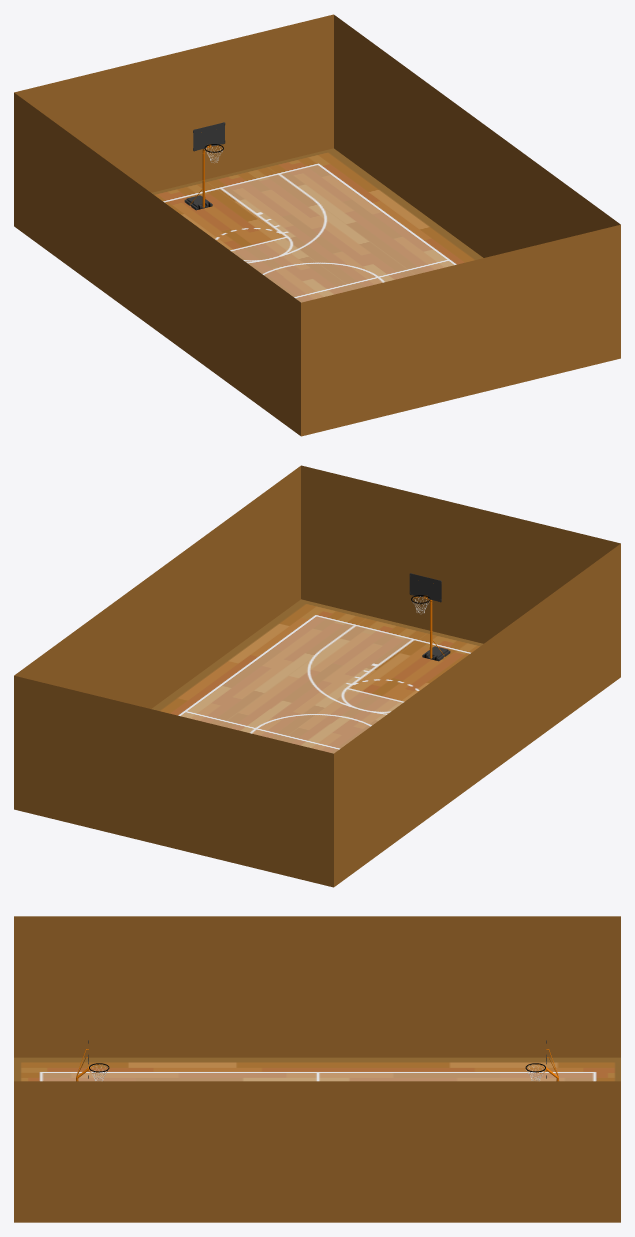
Rendered from bcourt.glb.
The picture shows the model from 3 angles, top to bottom: view 1: azimuth 30°, elevation 25°; view 2: azimuth 150°, elevation 25°; view 3: azimuth 270°, elevation 25°; orthographic projection. The views are drawn at different scales.
Visible parts, largest first — view 1: bcourt; view 2: bcourt; view 3: bcourt.
Boxes of the visible parts, x1,y1,x2,y2 form: bcourt: (14, 14, 620, 436); bcourt: (14, 465, 620, 887); bcourt: (14, 916, 620, 1222).
Bounding box in the file's own units: 10 × 4 × 15.55.
5 materials, 1 textured.
